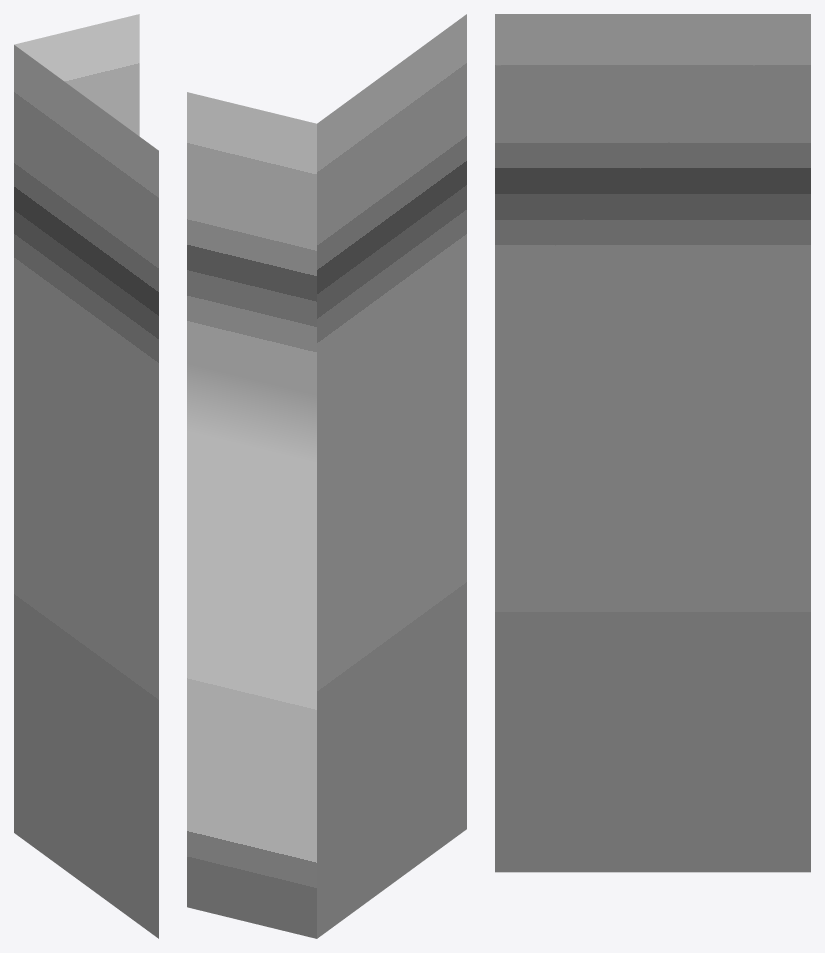
3 views of the same model, side by side, from view 1: azimuth 30°, elevation 25°; view 2: azimuth 150°, elevation 25°; view 3: azimuth 270°, elevation 25° (orthographic). The views are drawn at different scales.
Size of the model in its own units: 0.5 by 3 by 1.
2 materials, 2 textured.
